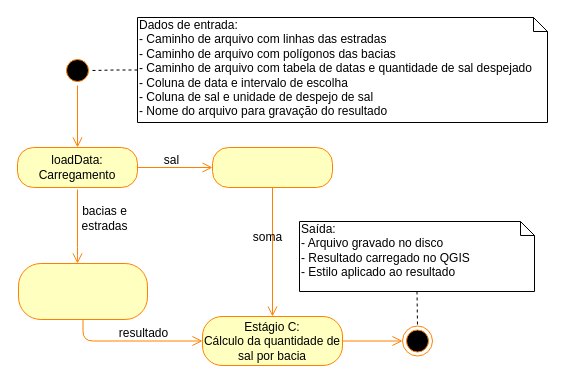
Image size: 565x383. Some labels were removed from this diagram. The shapes that lost their labels are listed below. From the top down, each one's centre as x and y in pixels, then its label:
the point at 272,167: Estágio A: Cálculo do total de sal acumulado
the point at 83,291: Estágio B: Somar total de linhas dentro dos polígonos
